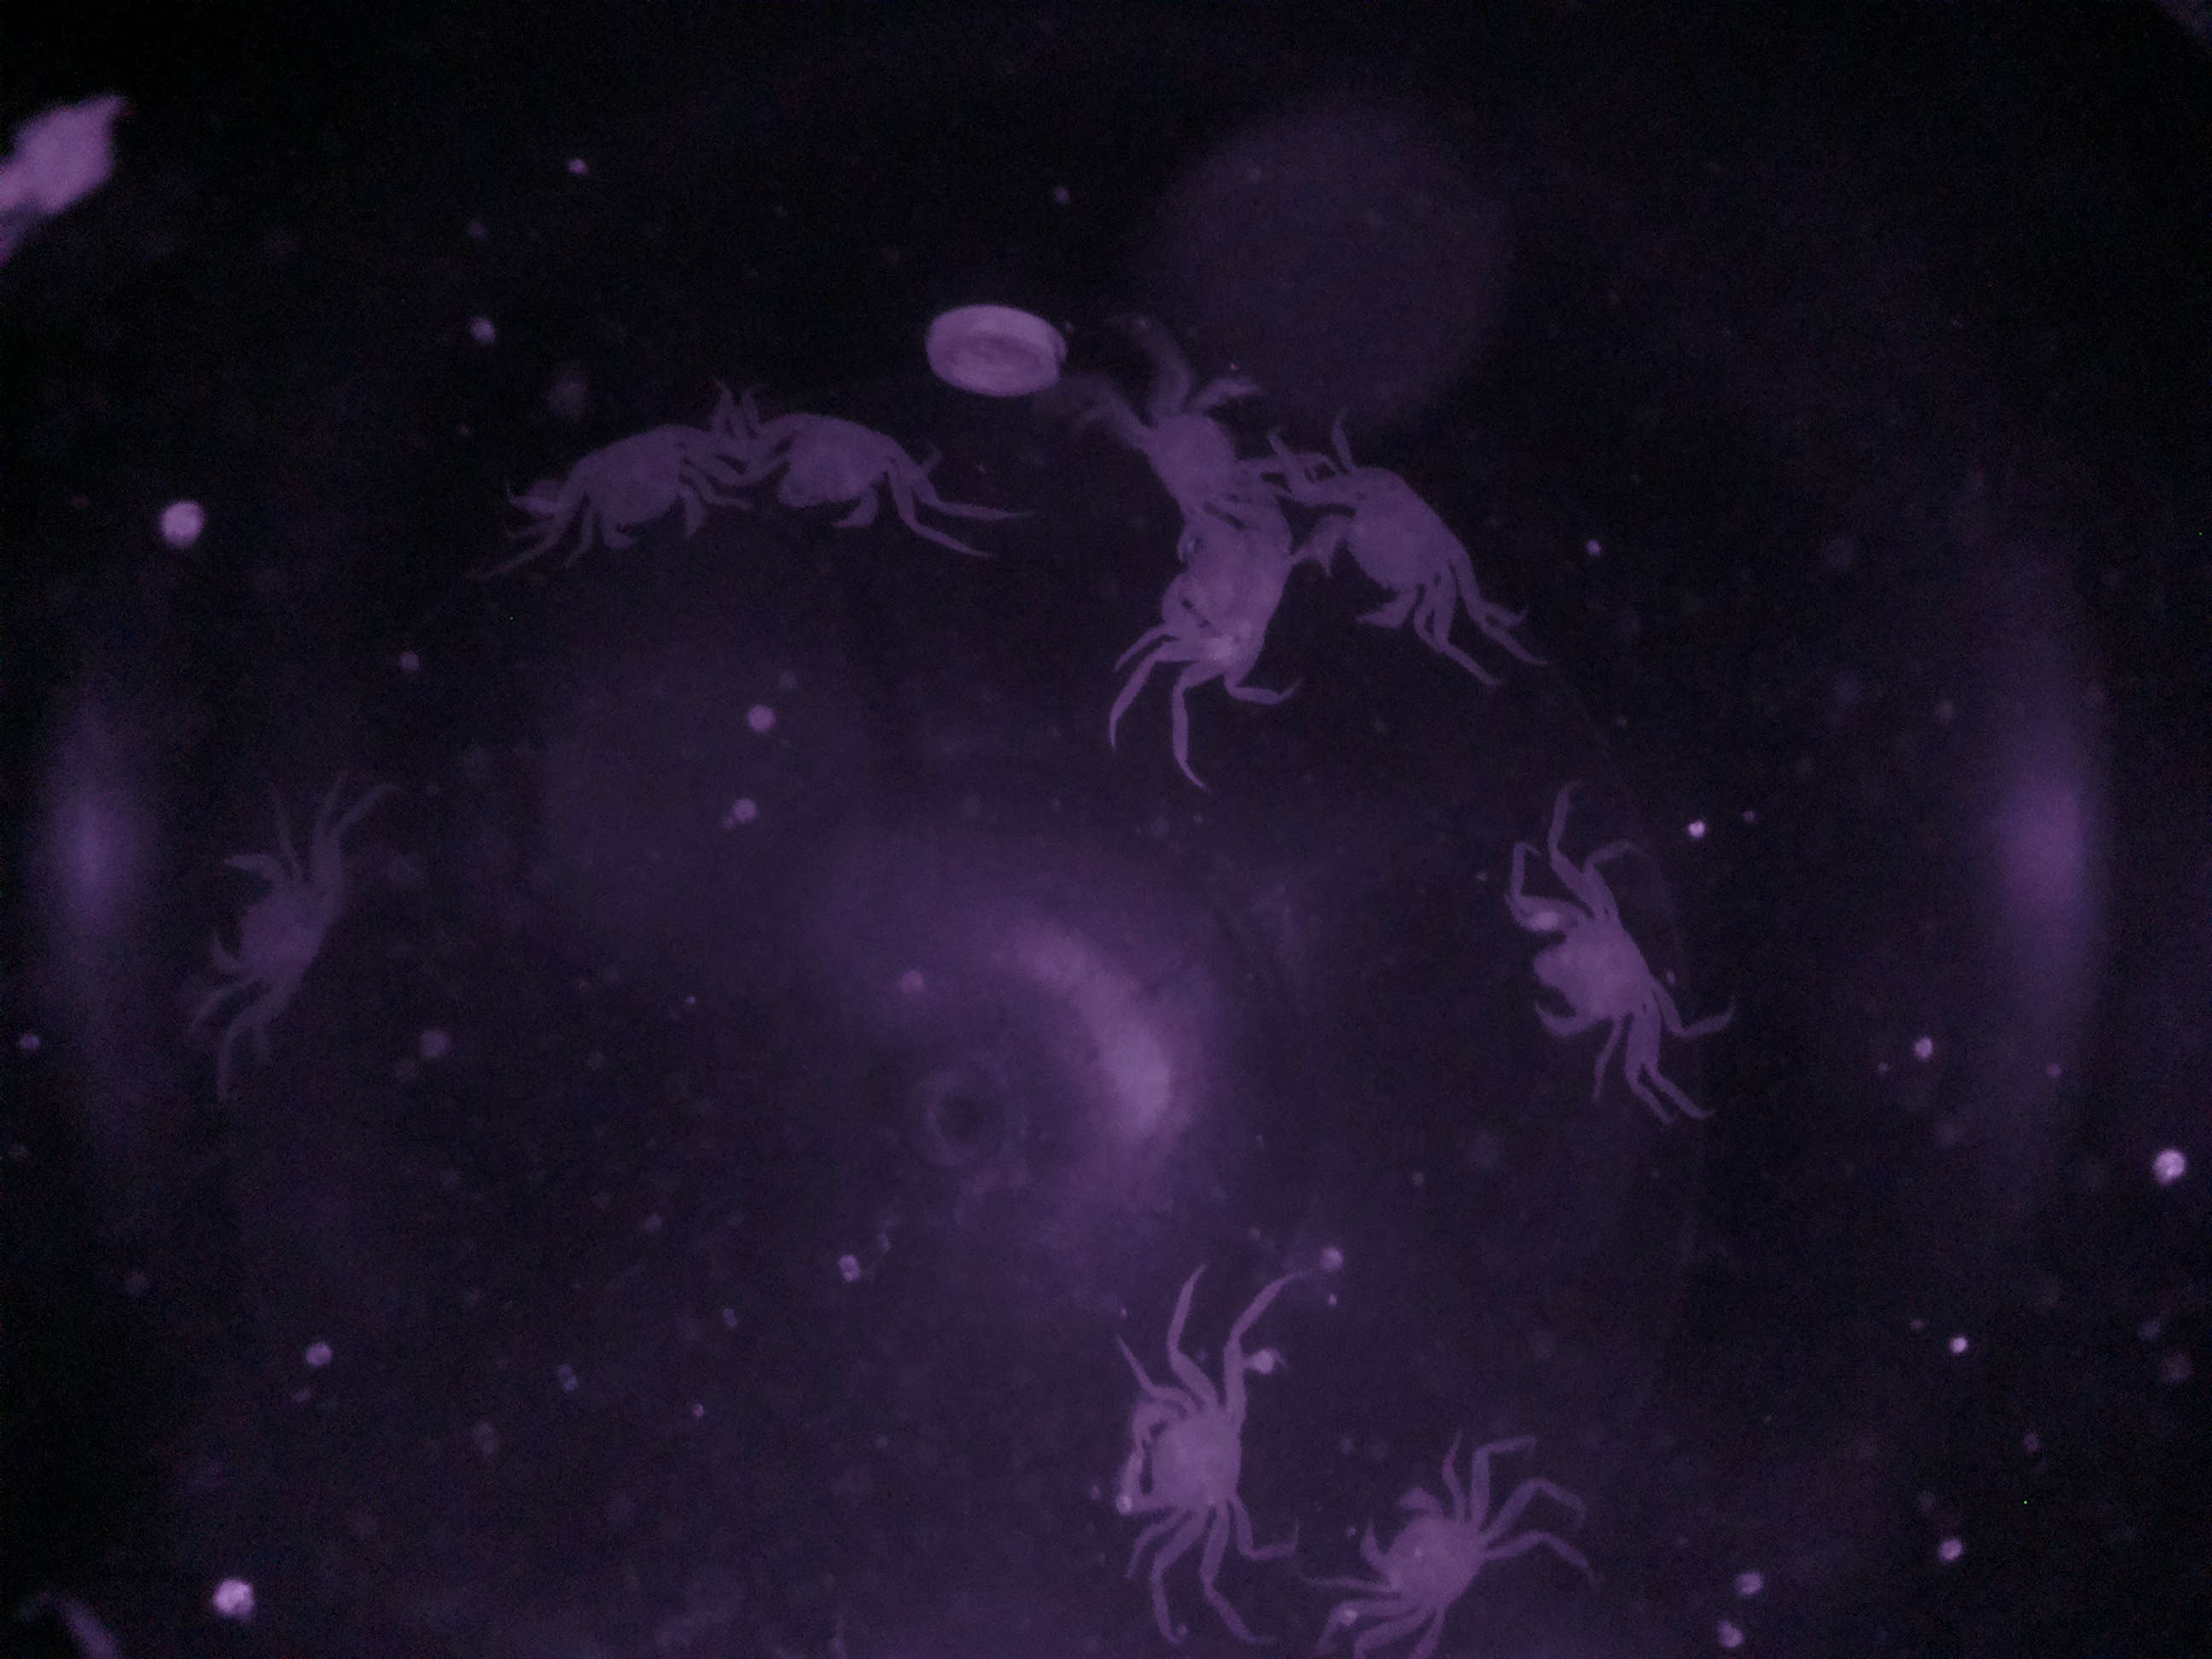Crab: (1097, 1328, 1268, 1565), (1292, 439, 1487, 647), (1519, 857, 1674, 1100), (733, 394, 953, 554), (1343, 1445, 1527, 1631), (183, 831, 361, 1018)
